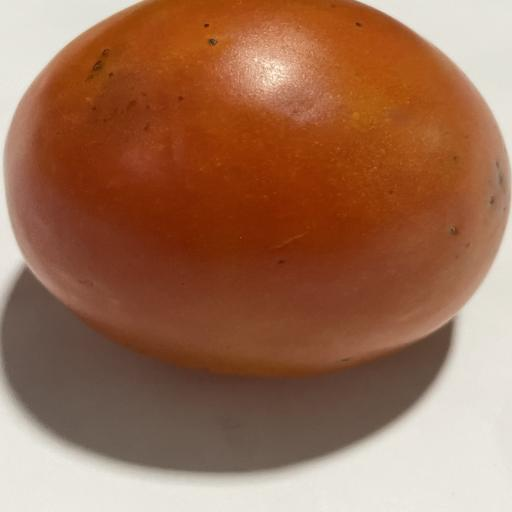unripe: (5, 0, 511, 375)
